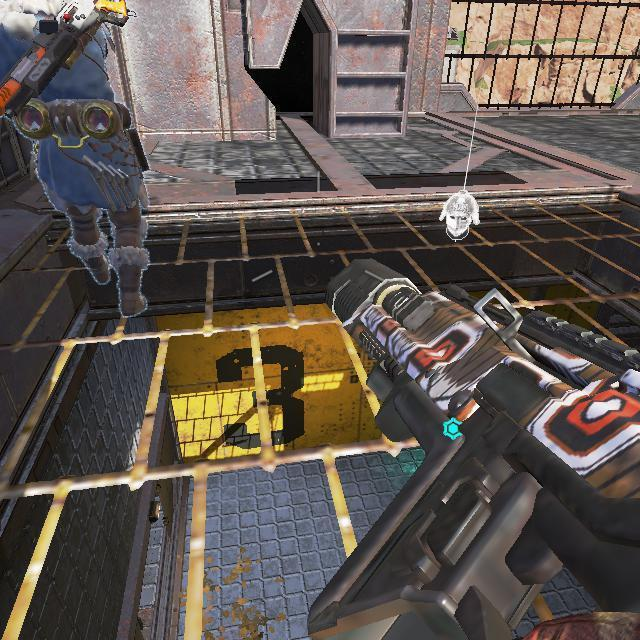avatar: (0, 0, 152, 321)
